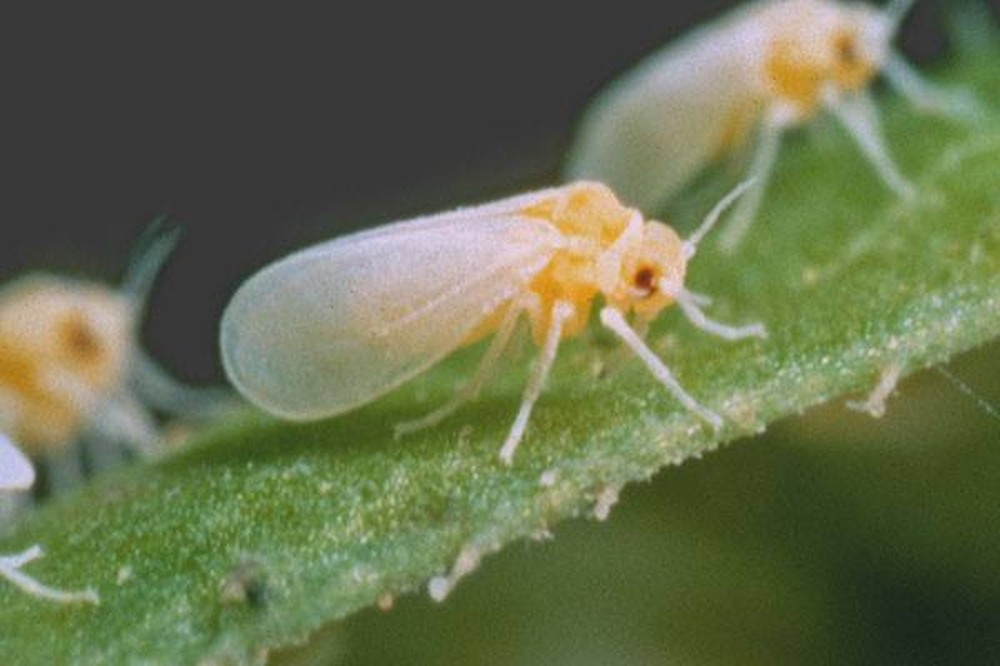Mosca Blanca: (218, 176, 769, 450), (556, 5, 985, 215)
